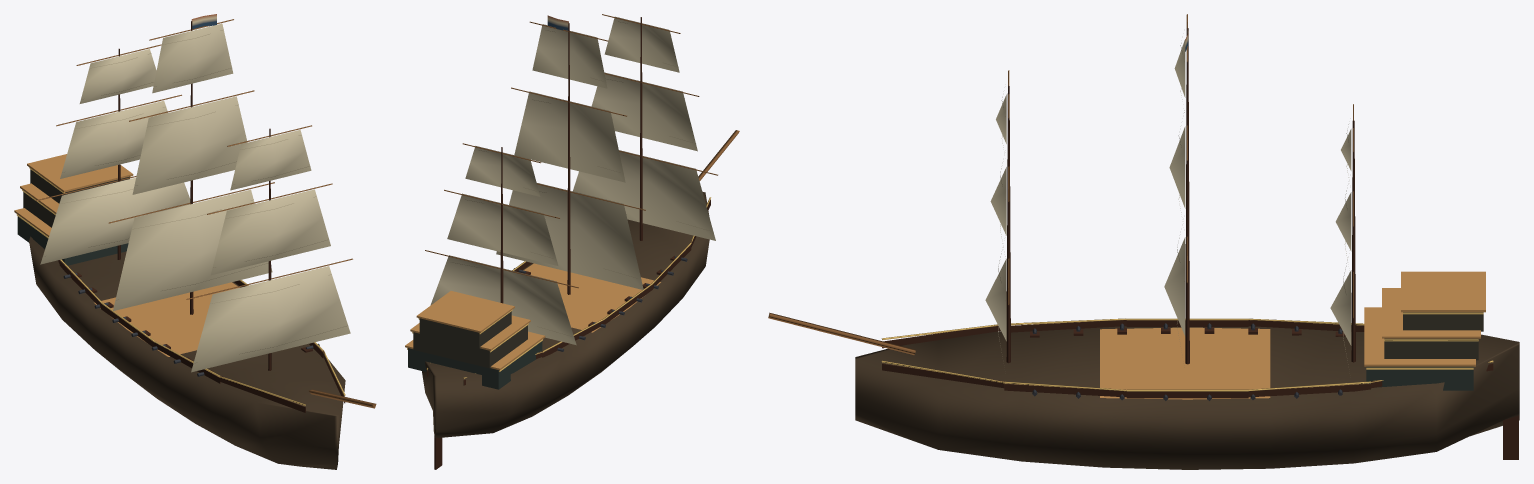
Rendered from heavy-lod2.glb.
3 views of the same model, side by side, from view 1: azimuth 30°, elevation 25°; view 2: azimuth 150°, elevation 25°; view 3: azimuth 270°, elevation 25° (orthographic). The views are drawn at different scales.
Visible parts, largest first — view 1: hull, sail_07, sail_04, sail_05, sail_01, sail_08, sail_02, deck, sail_06, sail_09, sail_03, fittings_deck (+8 smaller); view 2: hull, sail_04, sail_07, sail_05, sail_01, sail_08, sail_02, fittings_deck, deck, sail_06, sail_09, sail_03 (+11 smaller); view 3: hull, deck, fittings_wood, fittings_deck, fittings_trim, stern_tier_01_body, stern_tier_02_body, stern_tier_03_body, mast_timber_02, sail_04, sail_07, mast_timber_03 (+3 smaller).
Boxes of the visible parts, x1,y1,x2,y2 form: hull: (29,236,345,469); sail_07: (191,266,350,372); sail_04: (113,189,272,310); sail_05: (132,96,247,194); sail_01: (40,177,190,264); sail_08: (211,189,330,275); sail_02: (60,100,167,178); deck: (94,282,239,356); sail_06: (152,23,233,93); sail_09: (230,129,311,190); sail_03: (79,49,156,103); fittings_deck: (14,154,133,236); hull: (422,191,709,437); sail_04: (496,183,643,289); sail_07: (572,150,715,240); sail_05: (514,91,625,182); sail_01: (430,255,576,345); sail_08: (591,72,697,151); sail_02: (447,193,558,265); fittings_deck: (405,291,545,370); deck: (523,263,660,332); sail_06: (532,24,607,88); sail_09: (604,16,679,72); sail_03: (465,146,540,196); hull: (855,325,1519,469); deck: (1100,327,1270,399); fittings_wood: (768,312,1493,398); fittings_deck: (1364,271,1485,366); fittings_trim: (881,312,1493,391); stern_tier_01_body: (1366,366,1473,390); stern_tier_02_body: (1384,338,1478,360); stern_tier_03_body: (1403,312,1483,331); mast_timber_02: (1185,28,1189,364); sail_04: (1164,237,1185,346); sail_07: (985,253,1006,356); mast_timber_03: (1006,85,1010,363).
Bounding box in the file's own units: 17.19 × 37.6 × 58.83.
